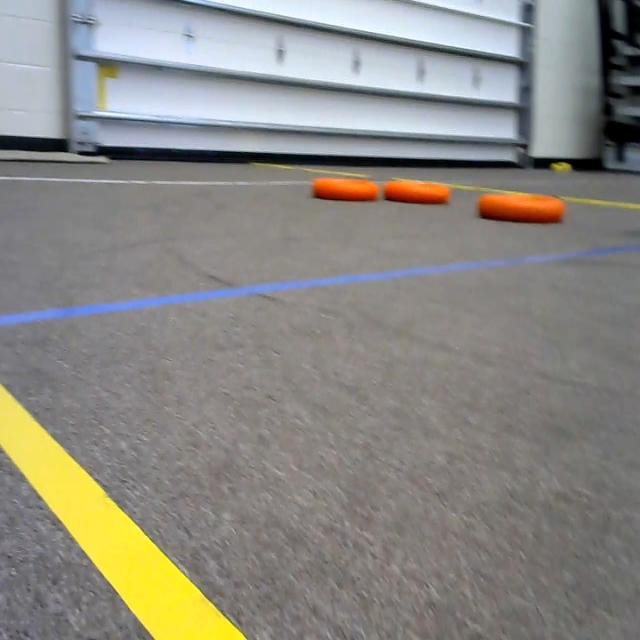note: (475, 181, 566, 230), (382, 164, 455, 217), (307, 166, 387, 212)
